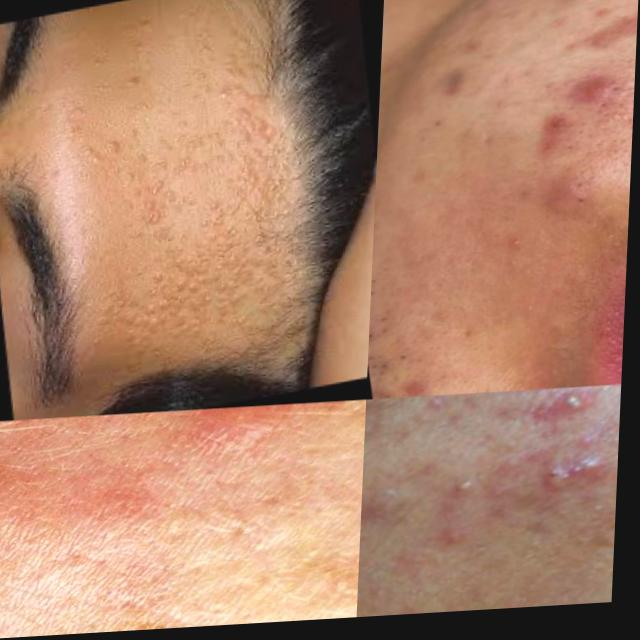8: (139, 408, 307, 464), (524, 108, 596, 168), (520, 175, 589, 230), (553, 72, 623, 122), (0, 461, 19, 558), (441, 472, 490, 509), (440, 523, 483, 561)
9: (549, 394, 600, 420)
blackheads: (519, 459, 616, 504), (415, 61, 489, 116), (573, 18, 638, 59), (489, 240, 535, 264)
